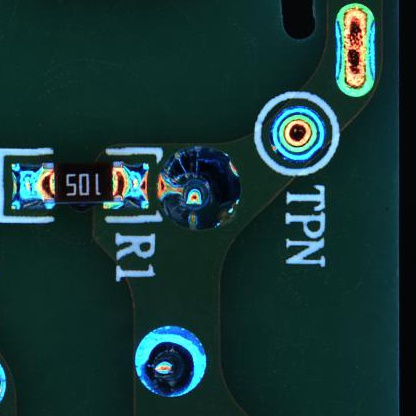spot: (156, 143, 251, 234), (129, 320, 213, 403), (268, 104, 329, 167)
